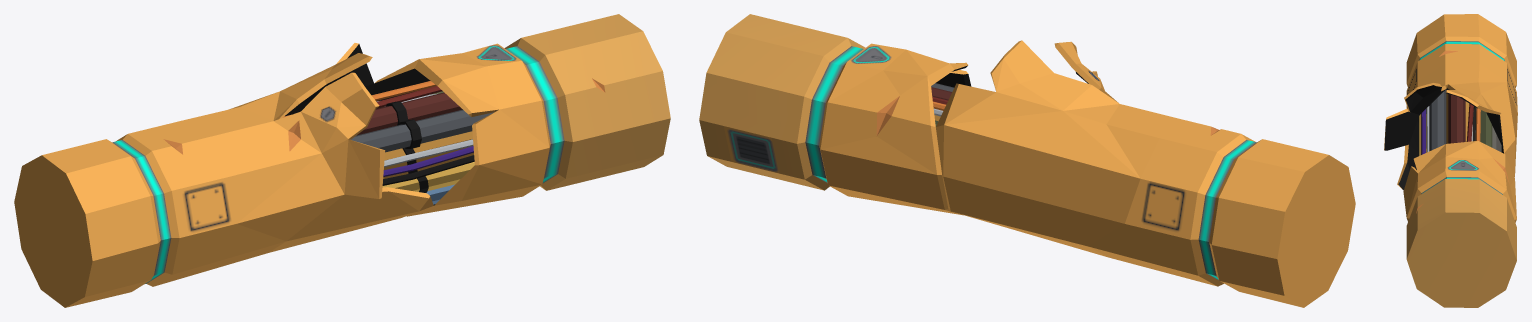
The model's file is SM_Bld_Pipe_Large_Circular_02.fbx.
3 renders of one model, left to right at view 1: azimuth 30°, elevation 25°; view 2: azimuth 150°, elevation 25°; view 3: azimuth 270°, elevation 25°, orthographic. The views are drawn at different scales.
Parts seen in each view (by area): view 1: SM_Bld_Pipe_Large_Circular_02; view 2: SM_Bld_Pipe_Large_Circular_02; view 3: SM_Bld_Pipe_Large_Circular_02.
Boxes of the visible parts, <box> form: SM_Bld_Pipe_Large_Circular_02: <box>14,14,670,307</box>; SM_Bld_Pipe_Large_Circular_02: <box>699,14,1355,307</box>; SM_Bld_Pipe_Large_Circular_02: <box>1384,14,1517,307</box>.
Size of the model in its own units: 500 by 146 by 142.
